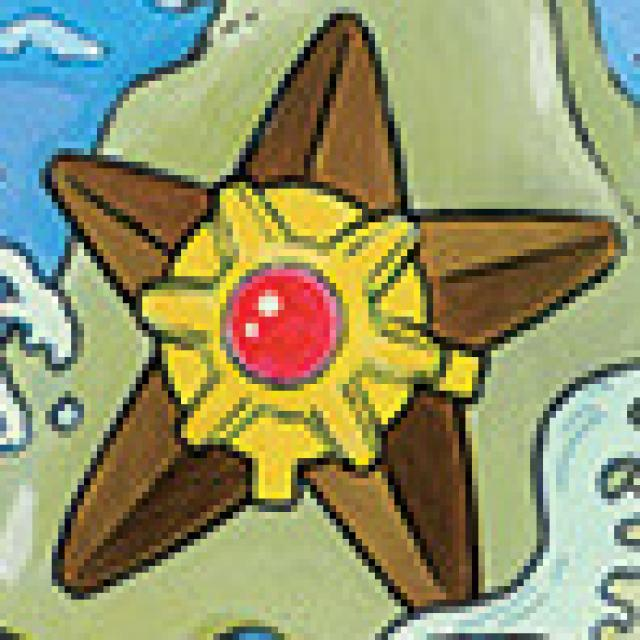Staryu: (47, 12, 604, 596)
